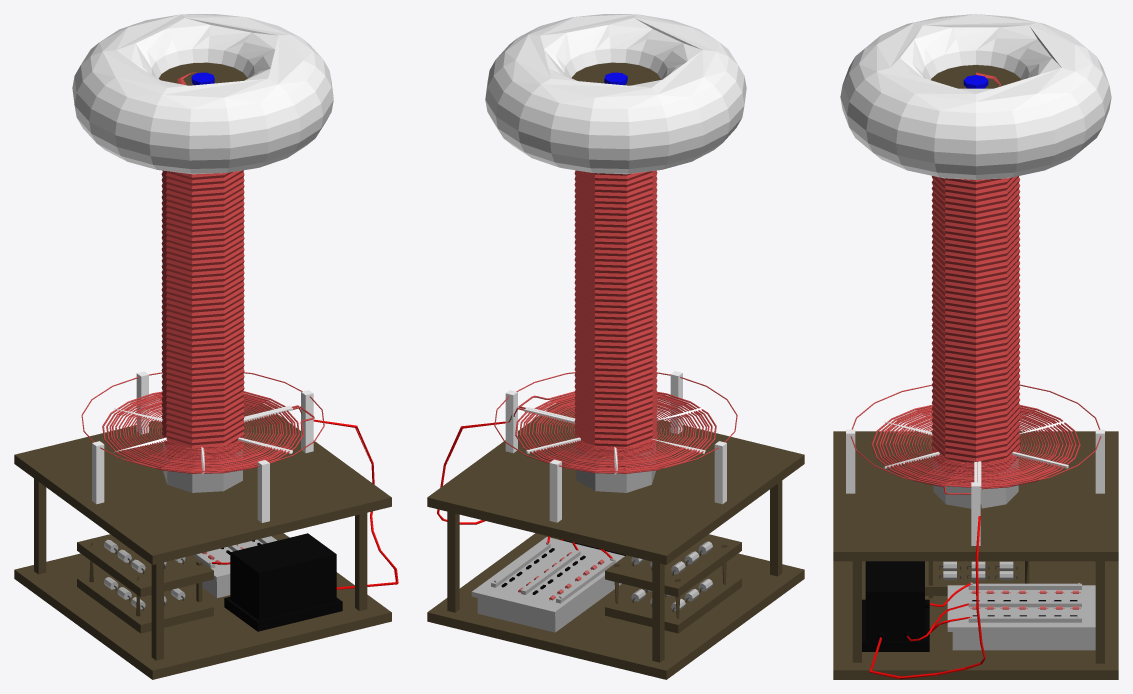
File: tesla_tower.glb
3 views of the same model, side by side, from view 1: azimuth 30°, elevation 25°; view 2: azimuth 150°, elevation 25°; view 3: azimuth 270°, elevation 25° (orthographic). The views are drawn at different scales.
Parts seen in each view (by area): view 1: pCube9_lambert1_0, toroid_primary_voil_0, secondary_coil_secondary_coil1_0, pCube22_blinn4_0, Primary_Coil_strike_ring_0, Primary_Coil_strike_ring_hold_0, secondary_coil3_secondary_coil2_0, group15_lambert8_0, pCylinder52_cord_0; view 2: pCube9_lambert1_0, toroid_primary_voil_0, secondary_coil_secondary_coil1_0, group15_lambert8_0, Primary_Coil_strike_ring_0, Primary_Coil_strike_ring_hold_0, secondary_coil3_secondary_coil2_0; view 3: pCube9_lambert1_0, toroid_primary_voil_0, secondary_coil_secondary_coil1_0, group15_lambert8_0, Primary_Coil_strike_ring_0, pCube22_blinn4_0, Primary_Coil_strike_ring_hold_0, secondary_coil3_secondary_coil2_0, pCylinder52_cord_0.
Part boxes in pixels (left/top/right/bottom): pCube9_lambert1_0: left=14, top=62, right=391, bottom=679; toroid_primary_voil_0: left=72, top=14, right=333, bottom=174; secondary_coil_secondary_coil1_0: left=161, top=72, right=244, bottom=459; pCube22_blinn4_0: left=221, top=533, right=342, bottom=631; Primary_Coil_strike_ring_0: left=81, top=372, right=324, bottom=473; Primary_Coil_strike_ring_hold_0: left=92, top=371, right=313, bottom=522; secondary_coil3_secondary_coil2_0: left=103, top=443, right=242, bottom=609; group15_lambert8_0: left=193, top=536, right=276, bottom=597; pCylinder52_cord_0: left=212, top=419, right=398, bottom=589; pCube9_lambert1_0: left=427, top=62, right=804, bottom=679; toroid_primary_voil_0: left=485, top=14, right=746, bottom=174; secondary_coil_secondary_coil1_0: left=574, top=170, right=657, bottom=457; group15_lambert8_0: left=471, top=537, right=624, bottom=632; Primary_Coil_strike_ring_0: left=494, top=372, right=737, bottom=473; Primary_Coil_strike_ring_hold_0: left=505, top=371, right=726, bottom=522; secondary_coil3_secondary_coil2_0: left=576, top=444, right=712, bottom=610; pCube9_lambert1_0: left=833, top=65, right=1118, bottom=679; toroid_primary_voil_0: left=840, top=14, right=1111, bottom=179; secondary_coil_secondary_coil1_0: left=931, top=72, right=1020, bottom=474; group15_lambert8_0: left=947, top=582, right=1095, bottom=650; Primary_Coil_strike_ring_0: left=850, top=384, right=1101, bottom=494; pCube22_blinn4_0: left=862, top=561, right=1077, bottom=651; Primary_Coil_strike_ring_hold_0: left=846, top=420, right=1104, bottom=545; secondary_coil3_secondary_coil2_0: left=933, top=458, right=1018, bottom=580; pCylinder52_cord_0: left=869, top=510, right=985, bottom=679.
Size of the model in its own units: 0.564 by 1 by 0.4584.
